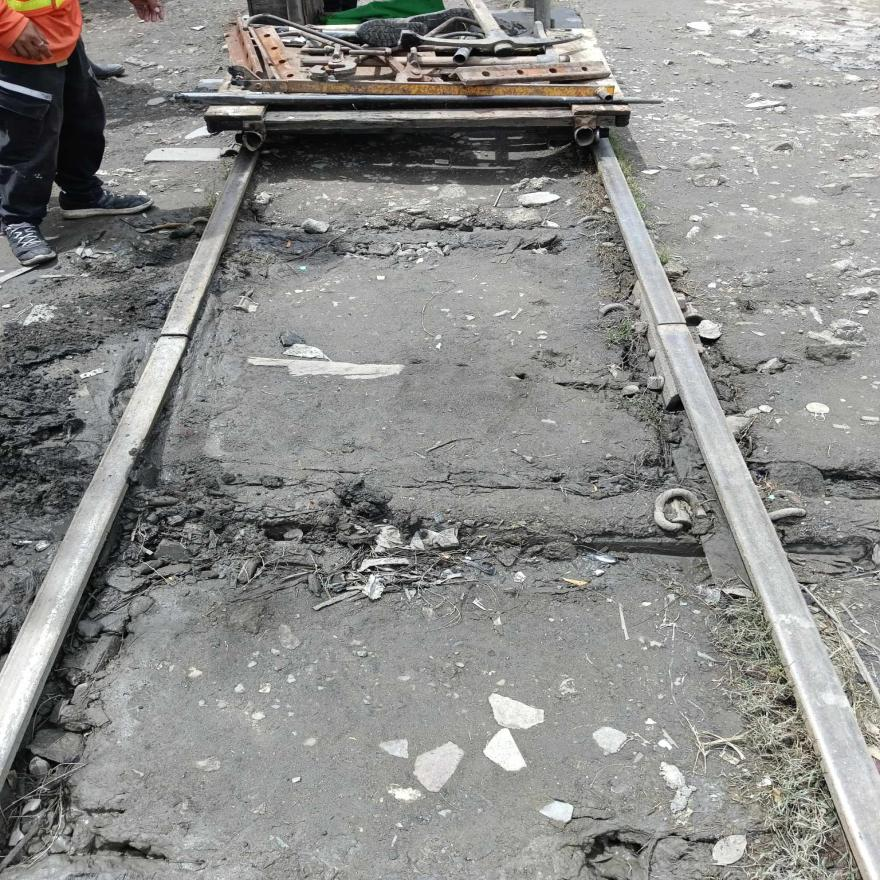railway-gap: (621, 298, 712, 354), (127, 308, 214, 365)
